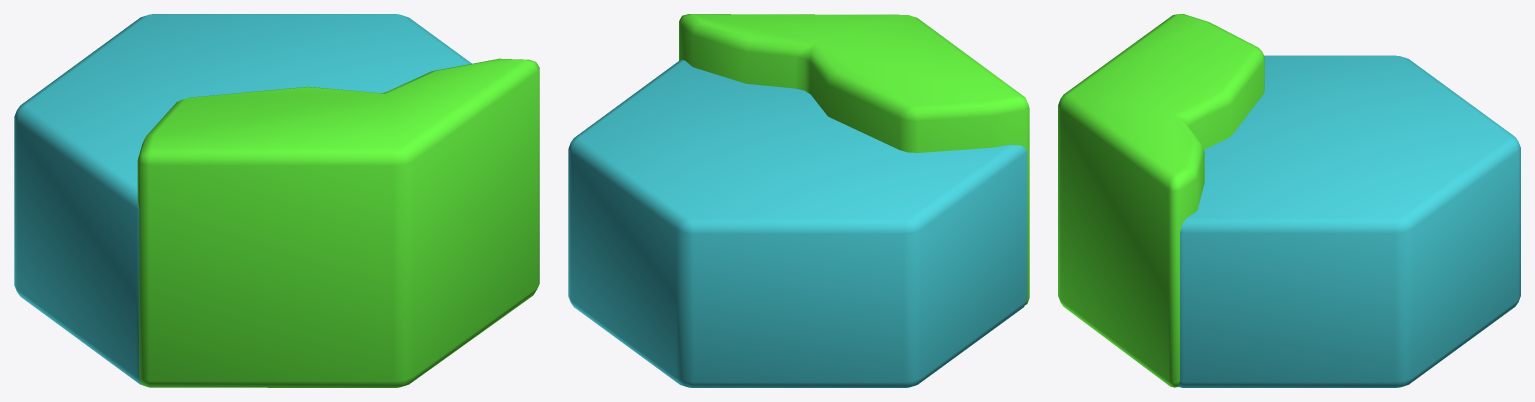
Rendered from grass_water3.glb.
3 renders of one model, left to right at view 1: azimuth 30°, elevation 25°; view 2: azimuth 150°, elevation 25°; view 3: azimuth 270°, elevation 25°, orthographic. The views are drawn at different scales.
Parts seen in each view (by area): view 1: grass_water3; view 2: grass_water3; view 3: grass_water3.
Part boxes in pixels (x1,y1,x2,y2): grass_water3: (14,14,539,387); grass_water3: (568,14,1029,387); grass_water3: (1058,14,1520,387).
Size of the model in its own units: 6.97 by 4 by 7.9.
